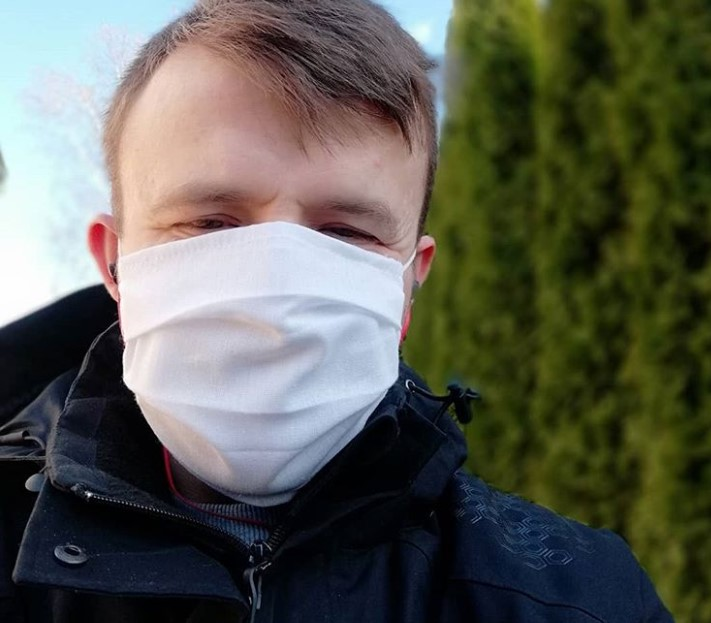face_with_mask: (82, 1, 437, 499)
